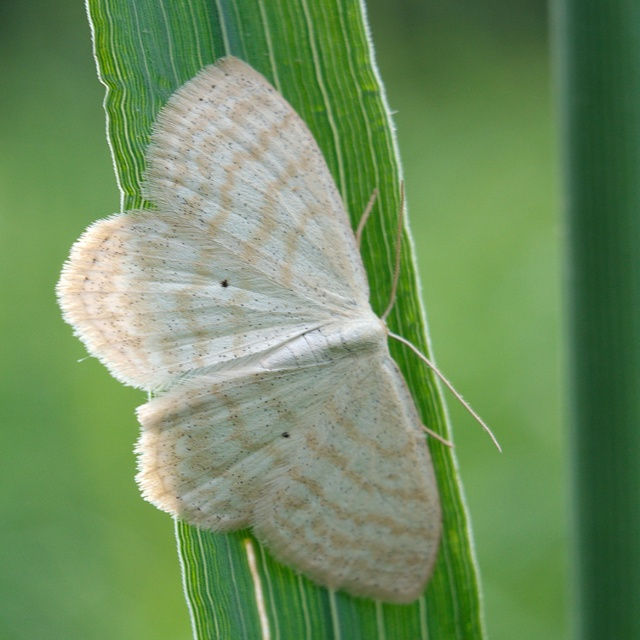Moths and butterflies: (62, 48, 501, 605)
